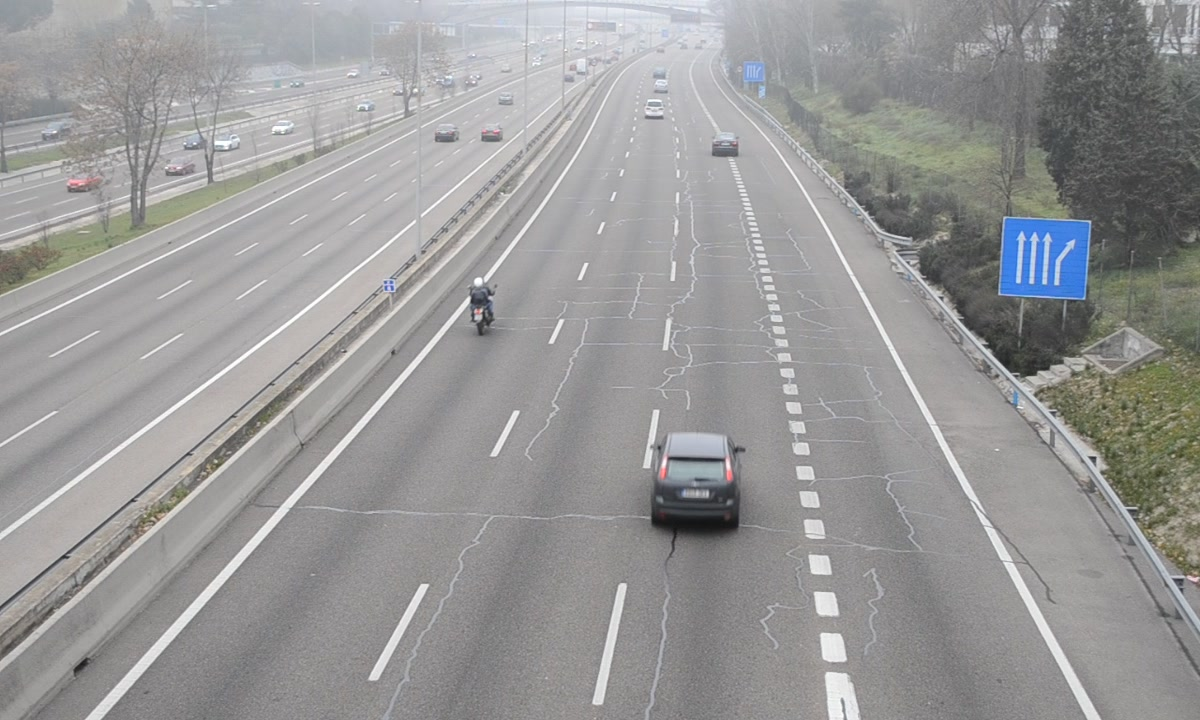car: (649, 432, 738, 526), (712, 133, 738, 156), (645, 99, 665, 120)
motorcycle: (466, 275, 496, 336)
